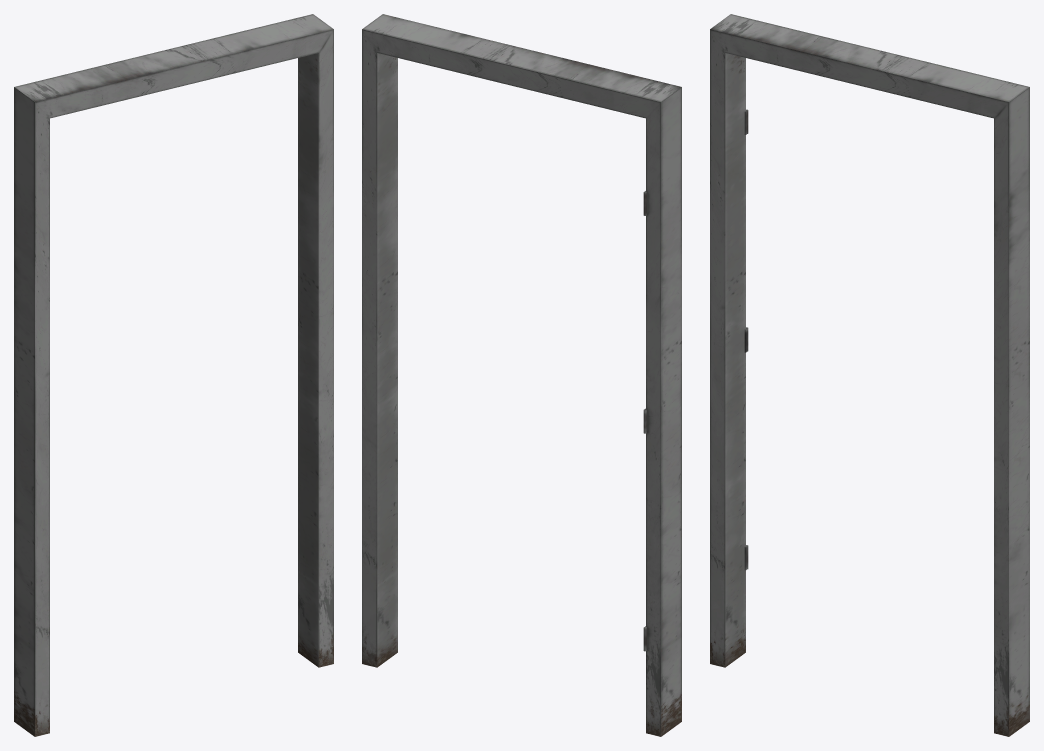
Rendered from SM_Frame_Metal_AGrey.glb.
3 views of the same model, side by side, from view 1: azimuth 30°, elevation 25°; view 2: azimuth 150°, elevation 25°; view 3: azimuth 330°, elevation 25° (orthographic).
Parts seen in each view (by area): view 1: SM_Frame_Metal_ABlue; view 2: SM_Frame_Metal_ABlue; view 3: SM_Frame_Metal_ABlue.
Boxes of the visible parts, box(x1,y1,x2,y2) form: SM_Frame_Metal_ABlue: box(14, 14, 333, 736); SM_Frame_Metal_ABlue: box(362, 14, 681, 736); SM_Frame_Metal_ABlue: box(710, 14, 1029, 736).
Bounding box in the file's own units: 1.25 × 2.53 × 0.1616.
1 material, 1 textured.
